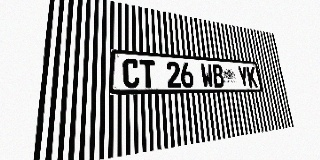2: (166, 61, 181, 88)
6: (180, 62, 194, 88)
B: (211, 64, 225, 88)
C: (123, 58, 140, 88)
K: (246, 66, 258, 87)
T: (140, 59, 156, 88)
W: (200, 63, 214, 88)
Y: (237, 66, 249, 87)
